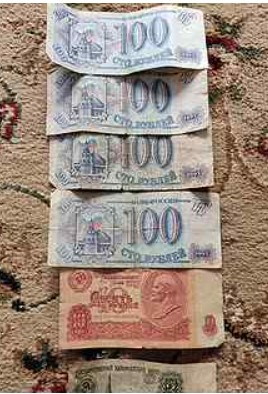cash: (47, 189, 222, 269), (59, 269, 224, 351), (47, 3, 209, 75), (46, 71, 210, 135), (49, 135, 215, 191), (67, 360, 217, 394)
